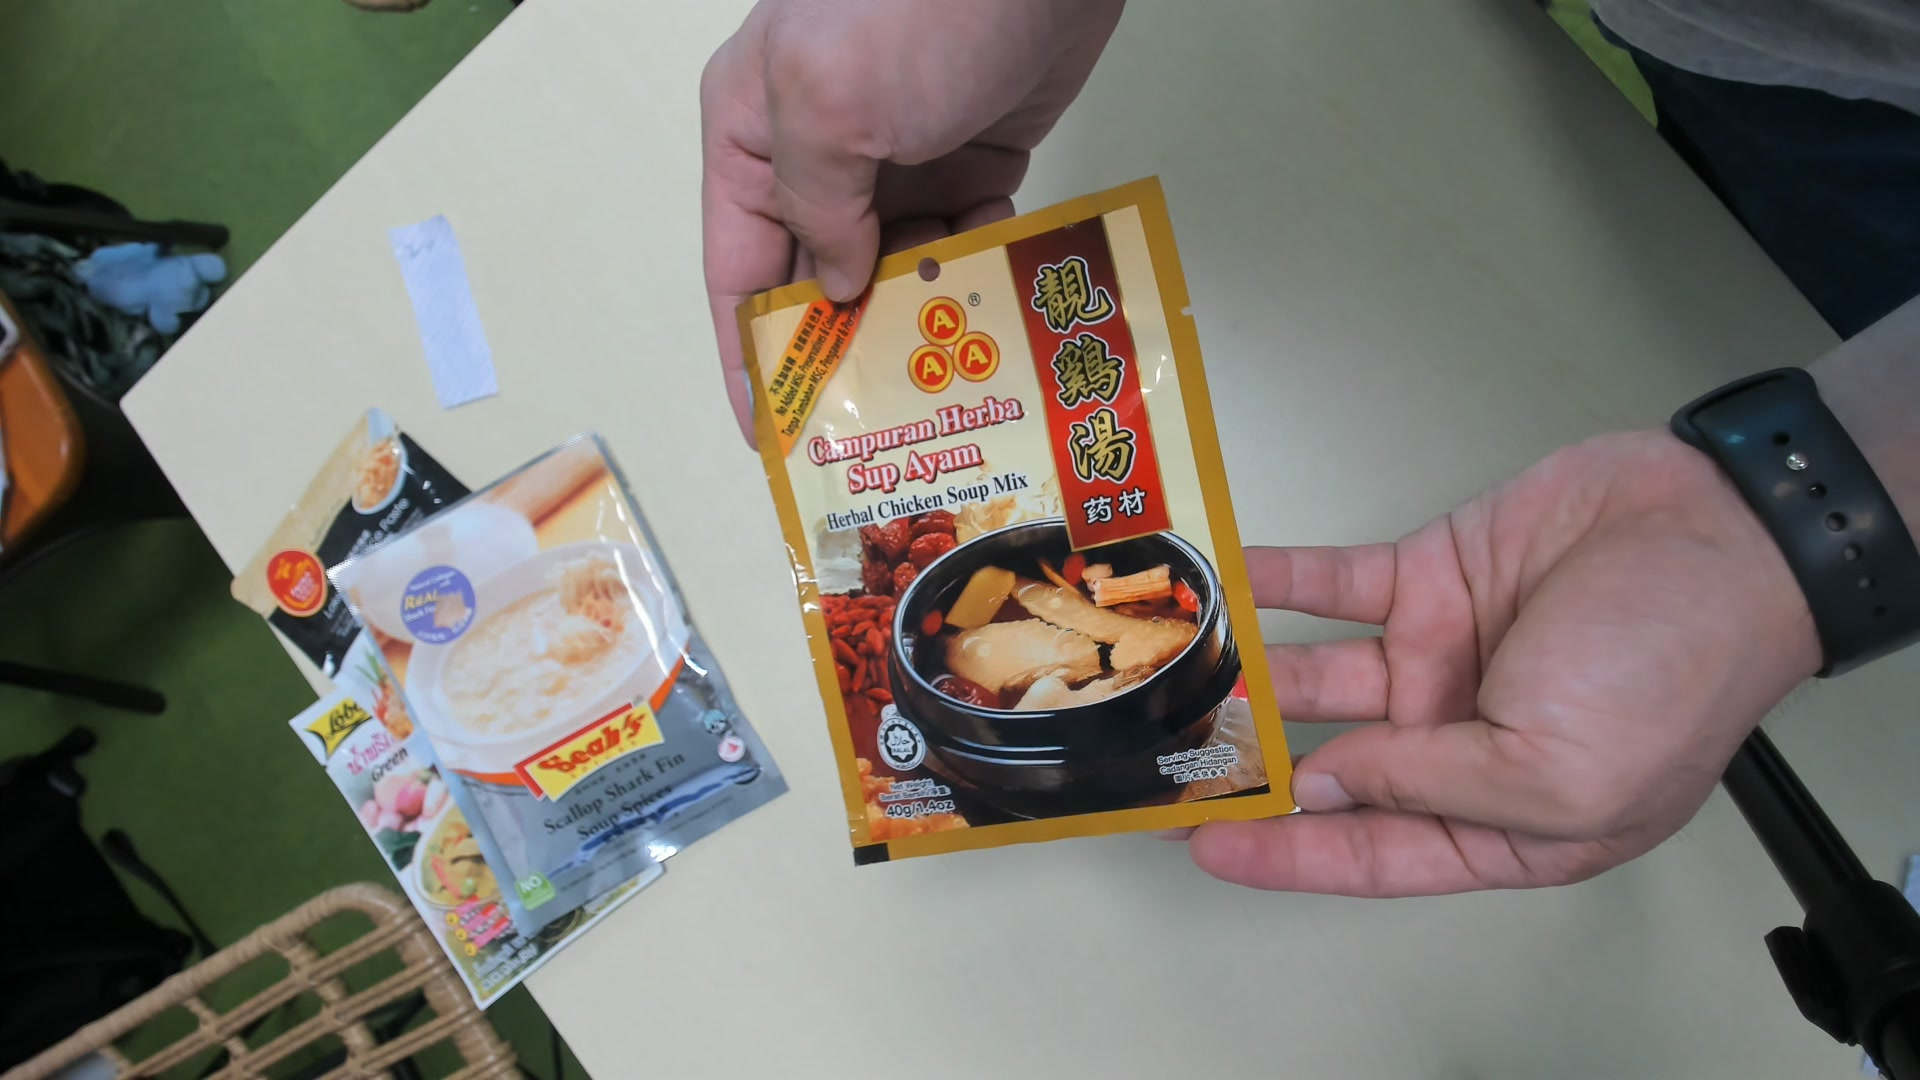OtherSauceDressing_0-99g_Halal_NonHealthy: (738, 164, 1298, 882)
